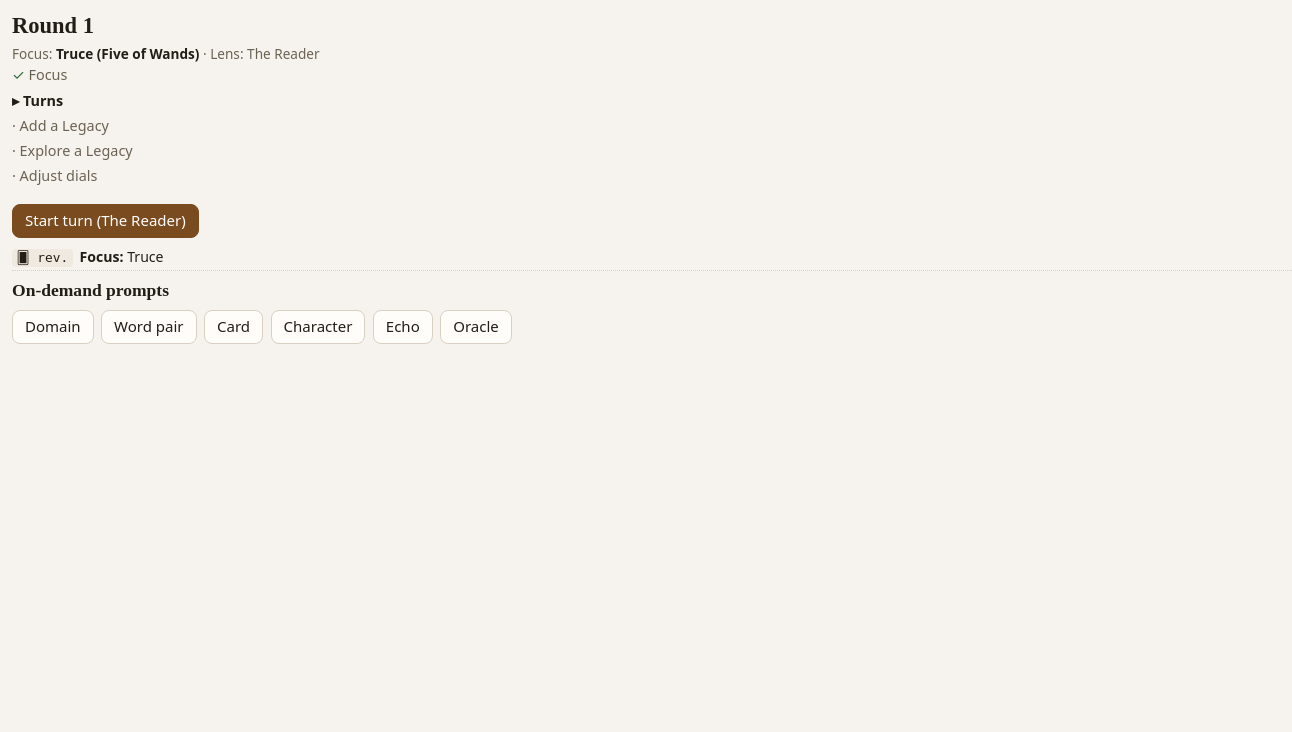
Scenario: a phantom’s turn opens with its inspiration › cards
Click the button "Start turn (The Reader)".
click(105, 221)  # box x1=12 y1=204 x2=199 y2=238
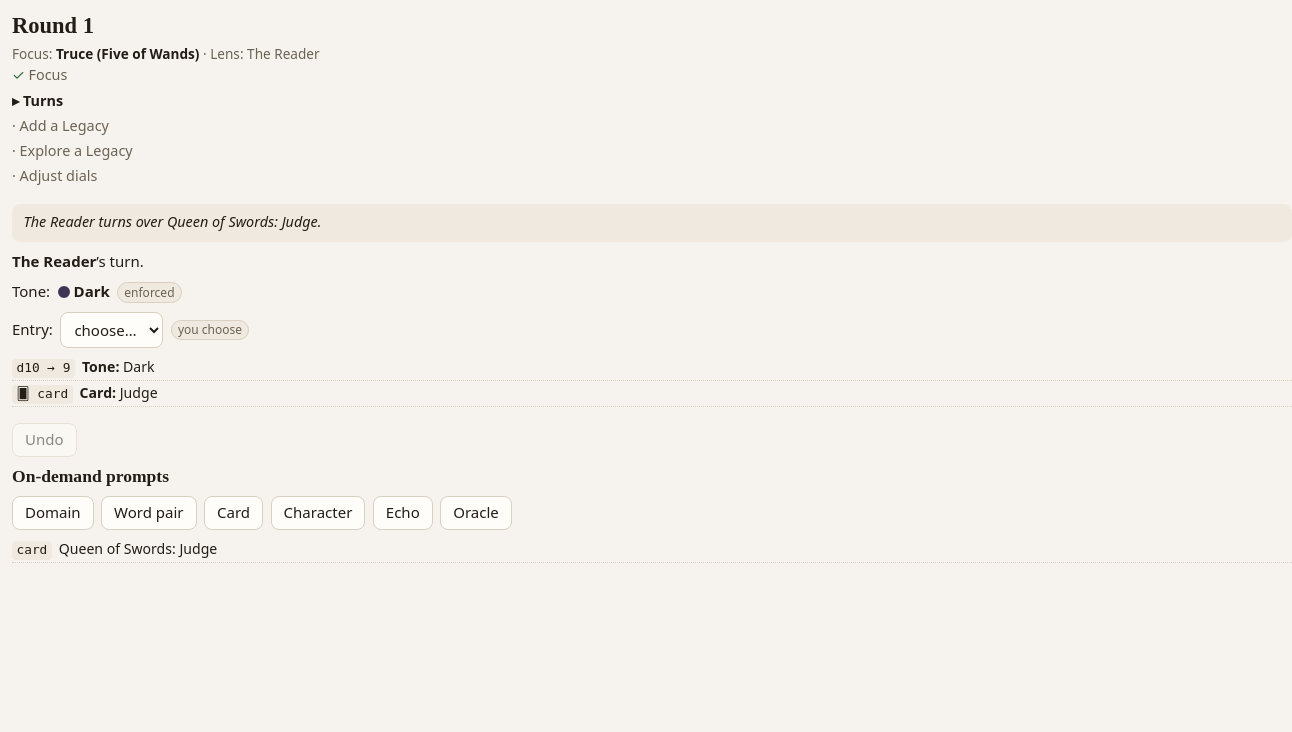
Result: the element named "Inspiration" reads "The Reader turns over Queen of Swords: Judge." at x1=24 y1=212 x2=321 y2=231
